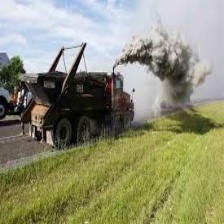smoke: (111, 22, 208, 111)
